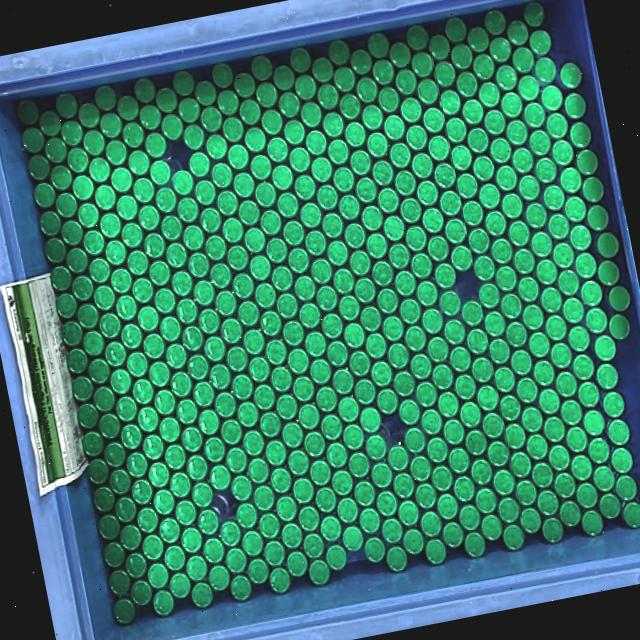vial: (104, 239, 128, 265), (200, 106, 223, 133), (72, 174, 95, 201), (66, 247, 89, 274), (137, 305, 160, 332), (126, 351, 149, 378), (398, 399, 421, 426), (582, 176, 605, 203), (348, 451, 371, 478), (599, 493, 622, 520), (109, 569, 132, 596), (191, 582, 214, 609), (420, 510, 443, 537), (510, 349, 533, 376), (143, 333, 166, 360), (442, 521, 464, 549), (94, 85, 117, 111), (428, 34, 451, 60), (33, 183, 56, 209), (128, 150, 151, 176), (271, 266, 294, 292), (170, 371, 193, 397), (478, 82, 501, 108), (489, 138, 512, 164), (512, 47, 535, 73), (467, 27, 490, 53), (523, 103, 546, 129), (181, 427, 204, 453), (220, 419, 243, 445), (208, 565, 231, 591), (596, 232, 619, 258), (560, 400, 583, 426), (541, 517, 564, 543), (39, 110, 61, 137), (51, 164, 73, 191), (61, 320, 83, 347), (154, 287, 176, 314), (278, 92, 300, 119), (243, 328, 265, 355), (311, 257, 333, 284), (260, 209, 282, 236), (93, 385, 115, 412), (82, 430, 104, 457), (142, 433, 164, 460), (378, 86, 400, 113), (417, 78, 439, 105), (456, 172, 478, 199), (389, 142, 411, 169), (560, 62, 582, 89), (439, 190, 461, 217), (338, 194, 360, 221), (434, 263, 456, 290), (203, 537, 225, 564), (321, 414, 343, 441), (332, 368, 354, 395), (360, 407, 382, 434), (186, 554, 208, 581), (147, 562, 169, 589), (473, 255, 495, 282), (443, 418, 465, 445), (471, 458, 493, 485), (114, 597, 136, 624), (464, 531, 486, 558), (475, 487, 497, 514), (571, 454, 593, 481), (578, 381, 600, 408), (593, 465, 615, 492), (198, 408, 219, 436), (426, 537, 447, 565), (529, 29, 552, 54), (219, 522, 242, 547), (585, 308, 608, 333), (562, 297, 585, 322), (608, 286, 631, 311), (411, 52, 434, 77), (17, 99, 39, 125), (117, 95, 139, 121), (350, 49, 372, 75), (22, 127, 44, 153), (295, 74, 317, 100), (372, 59, 394, 85), (45, 137, 67, 163), (205, 134, 227, 160), (94, 185, 116, 211), (144, 233, 166, 259), (122, 222, 144, 248), (39, 211, 61, 237), (61, 220, 83, 246), (127, 250, 149, 276), (149, 260, 171, 286), (132, 277, 154, 303), (176, 298, 198, 324), (277, 192, 299, 218), (267, 137, 289, 163), (284, 120, 306, 146), (232, 273, 254, 299), (372, 160, 394, 186), (300, 203, 322, 229), (137, 407, 159, 433), (104, 442, 126, 468), (159, 417, 181, 443), (148, 463, 170, 489), (131, 478, 153, 504), (367, 132, 389, 158), (401, 97, 423, 123), (395, 70, 417, 96), (434, 61, 456, 87), (529, 130, 551, 156), (473, 155, 495, 181), (534, 57, 556, 83), (355, 178, 377, 204), (317, 184, 339, 210), (266, 237, 288, 263), (546, 113, 568, 139), (570, 122, 592, 148), (512, 147, 534, 173), (495, 166, 517, 192), (428, 135, 450, 161), (434, 162, 456, 188), (361, 205, 383, 231), (354, 278, 376, 304), (377, 187, 399, 213), (485, 210, 507, 236), (360, 306, 382, 332), (226, 346, 248, 372), (187, 354, 209, 380), (137, 507, 159, 533), (159, 517, 181, 543), (175, 500, 197, 526), (186, 455, 208, 481), (270, 467, 292, 493), (259, 513, 281, 539), (254, 385, 276, 411), (298, 404, 320, 430), (304, 431, 326, 457), (326, 442, 348, 468), (215, 392, 237, 418), (288, 348, 310, 374), (305, 331, 327, 357), (310, 358, 332, 384), (293, 376, 315, 402), (316, 285, 338, 311), (344, 322, 366, 348), (415, 381, 437, 407), (377, 389, 399, 415), (371, 260, 393, 286), (491, 238, 513, 264), (462, 301, 484, 327), (518, 276, 540, 302), (508, 220, 530, 246), (531, 231, 553, 257), (541, 287, 563, 313), (550, 343, 572, 369), (421, 409, 443, 435), (556, 371, 578, 397), (460, 402, 482, 428), (504, 423, 526, 449), (404, 427, 426, 453), (488, 441, 510, 467), (465, 429, 487, 455), (393, 473, 415, 499), (325, 545, 347, 571), (359, 508, 381, 534), (337, 498, 359, 524), (376, 490, 398, 516), (354, 481, 376, 507), (493, 469, 515, 495), (104, 542, 126, 568), (142, 534, 164, 560), (130, 580, 152, 606), (153, 590, 175, 616), (170, 573, 192, 599), (382, 518, 404, 544), (398, 500, 420, 526), (410, 456, 432, 482), (549, 445, 571, 471), (583, 410, 605, 436), (588, 438, 610, 464), (581, 510, 603, 536), (264, 540, 286, 566), (29, 154, 50, 181), (69, 147, 90, 174), (55, 191, 76, 218), (162, 214, 183, 241), (200, 207, 221, 234), (322, 111, 343, 138), (172, 270, 193, 297), (110, 368, 131, 395), (99, 513, 120, 540), (474, 54, 495, 81), (518, 75, 539, 102), (349, 249, 370, 276), (237, 401, 258, 428), (181, 526, 202, 553), (265, 439, 286, 466), (394, 370, 415, 397), (410, 353, 431, 380), (416, 280, 437, 307), (588, 204, 609, 231), (545, 314, 566, 341), (513, 248, 534, 275), (466, 328, 487, 355), (438, 391, 459, 418), (293, 477, 314, 504), (343, 525, 364, 552), (125, 552, 146, 579), (386, 545, 407, 572), (481, 514, 502, 541), (554, 472, 575, 499), (545, 416, 566, 443), (566, 426, 587, 453), (537, 489, 558, 516), (498, 497, 519, 524), (609, 419, 630, 446), (109, 468, 132, 492), (247, 457, 270, 481), (541, 85, 564, 109), (538, 388, 561, 412), (594, 335, 617, 359), (56, 93, 78, 118), (78, 103, 100, 128), (134, 78, 156, 103), (89, 158, 111, 183), (50, 266, 72, 291), (77, 303, 99, 328), (83, 331, 105, 356), (301, 102, 323, 127), (183, 226, 205, 251), (227, 245, 249, 270), (116, 195, 138, 220), (339, 94, 361, 119), (328, 140, 350, 165), (99, 413, 121, 438), (120, 425, 142, 450), (126, 452, 148, 477), (115, 496, 137, 521), (439, 90, 461, 115), (366, 234, 388, 259), (552, 140, 574, 165), (422, 207, 444, 232), (406, 125, 428, 150), (299, 302, 321, 327), (260, 311, 282, 336), (120, 525, 142, 550), (276, 395, 298, 420), (468, 228, 490, 253), (444, 320, 466, 345), (522, 305, 544, 330), (560, 168, 582, 193), (564, 94, 586, 119), (365, 334, 387, 359), (516, 378, 538, 403), (499, 395, 521, 420), (477, 385, 499, 410), (448, 449, 470, 474), (364, 538, 386, 563), (596, 364, 618, 389), (403, 529, 425, 554), (454, 476, 476, 501), (576, 483, 598, 508), (239, 99, 260, 125), (162, 114, 183, 140), (228, 144, 249, 170), (189, 151, 210, 177), (172, 170, 193, 196), (179, 197, 200, 223), (79, 202, 100, 228), (100, 213, 121, 239), (134, 177, 155, 203), (45, 238, 66, 264), (88, 258, 109, 284), (72, 275, 93, 301), (105, 342, 126, 368), (239, 199, 260, 225), (251, 155, 272, 181), (262, 109, 283, 135), (318, 84, 339, 110), (222, 218, 243, 244), (166, 243, 187, 269), (210, 262, 231, 288), (205, 235, 226, 261), (188, 252, 209, 278), (122, 323, 143, 349), (166, 343, 187, 369), (183, 325, 204, 351), (204, 336, 225, 362), (288, 247, 309, 273), (345, 122, 366, 148), (159, 316, 180, 342), (72, 376, 93, 402), (115, 396, 136, 422), (148, 361, 169, 387), (177, 398, 198, 424), (77, 403, 98, 429), (88, 458, 109, 484), (93, 486, 114, 512), (362, 105, 383, 131), (356, 78, 377, 104), (384, 114, 405, 140), (496, 65, 517, 91), (395, 170, 416, 196), (284, 220, 305, 246), (577, 149, 598, 175), (479, 183, 500, 209), (462, 201, 483, 227), (383, 216, 404, 242), (305, 230, 326, 256), (327, 241, 348, 267), (423, 107, 444, 133), (400, 197, 421, 223), (339, 295, 360, 321), (239, 300, 260, 326), (192, 481, 213, 507), (237, 502, 258, 528), (226, 448, 247, 474), (210, 464, 231, 490), (231, 475, 252, 501), (242, 530, 263, 556), (281, 523, 302, 549), (299, 505, 320, 531), (260, 411, 281, 437), (282, 423, 303, 449), (249, 356, 270, 382), (193, 381, 214, 407), (271, 366, 292, 392), (266, 339, 287, 365), (283, 321, 304, 347), (355, 379, 376, 405), (343, 424, 364, 450), (388, 343, 409, 369), (405, 326, 426, 352), (231, 575, 252, 601), (411, 253, 432, 279), (389, 243, 410, 269), (451, 245, 472, 271), (395, 270, 416, 296), (506, 322, 527, 348), (496, 266, 517, 292), (525, 202, 546, 228), (543, 185, 564, 211), (485, 109, 506, 135), (457, 71, 478, 97), (609, 314, 630, 340), (530, 332, 551, 358), (489, 339, 510, 365), (472, 357, 493, 383), (494, 366, 515, 392), (483, 412, 504, 438), (427, 437, 448, 463), (389, 445, 410, 471), (432, 466, 453, 492), (332, 470, 353, 496), (310, 459, 331, 485), (321, 515, 342, 541), (303, 533, 324, 559), (532, 463, 553, 489), (509, 452, 530, 478), (573, 354, 594, 380), (270, 567, 291, 593), (287, 551, 308, 577), (309, 560, 330, 586), (416, 483, 437, 509), (382, 316, 403, 342), (526, 434, 547, 460), (604, 392, 625, 418), (616, 475, 637, 501), (322, 212, 343, 238), (247, 558, 268, 584), (199, 308, 220, 334), (152, 159, 172, 186), (217, 189, 237, 216), (85, 229, 105, 256), (118, 294, 138, 321), (96, 284, 116, 311), (246, 226, 266, 253), (134, 378, 154, 405), (414, 152, 434, 179), (537, 157, 557, 184), (407, 225, 427, 252), (447, 217, 467, 244), (424, 307, 444, 334), (278, 495, 298, 522), (437, 493, 457, 520), (517, 479, 537, 506), (165, 544, 184, 572), (253, 487, 276, 510), (559, 502, 582, 525), (484, 11, 506, 35), (156, 89, 178, 113), (217, 91, 239, 115), (451, 46, 473, 70), (106, 141, 128, 165), (111, 168, 133, 192), (110, 269, 132, 293), (55, 294, 77, 318), (305, 131, 327, 155), (294, 176, 316, 200), (249, 256, 271, 280), (215, 291, 237, 315), (350, 151, 372, 175), (333, 168, 355, 192), (462, 99, 484, 123), (490, 38, 512, 62), (377, 289, 399, 313), (427, 336, 449, 360), (519, 175, 541, 199), (548, 213, 570, 237), (570, 224, 592, 248), (568, 327, 590, 351), (611, 447, 633, 471), (179, 98, 200, 123), (146, 133, 167, 158), (222, 117, 243, 142), (211, 163, 232, 188), (139, 205, 160, 230), (89, 359, 110, 384), (311, 157, 332, 182), (256, 182, 277, 207), (390, 42, 411, 67), (255, 283, 276, 308), (417, 180, 438, 205), (440, 291, 461, 316), (322, 314, 343, 339), (210, 364, 231, 389), (154, 490, 175, 515), (243, 431, 264, 456), (243, 431, 264, 456), (232, 375, 253, 400), (428, 236, 449, 261), (479, 283, 500, 308), (468, 127, 489, 152), (575, 253, 596, 278), (536, 260, 557, 285), (558, 270, 579, 295), (581, 281, 602, 306), (455, 374, 476, 399), (371, 462, 392, 487), (533, 360, 554, 385), (170, 472, 191, 497), (316, 387, 337, 412), (520, 508, 541, 533), (236, 72, 256, 98), (67, 348, 87, 374), (235, 172, 255, 198), (289, 147, 309, 173), (100, 312, 120, 338), (295, 275, 315, 301), (334, 268, 354, 294), (154, 390, 174, 416), (125, 122, 145, 148), (451, 145, 471, 171), (277, 293, 297, 319), (222, 318, 242, 344), (199, 509, 219, 535), (165, 444, 185, 470), (205, 437, 225, 463), (317, 487, 337, 513), (339, 396, 359, 422), (327, 341, 347, 367), (432, 364, 452, 390), (501, 293, 521, 319), (555, 242, 575, 268), (565, 196, 585, 222), (522, 406, 542, 432), (227, 547, 246, 574), (503, 192, 522, 219), (460, 504, 479, 531), (173, 72, 195, 95), (256, 82, 278, 105), (183, 126, 205, 149), (366, 435, 388, 458), (597, 262, 620, 284), (251, 56, 272, 80), (291, 49, 312, 73), (84, 131, 105, 155), (245, 128, 266, 152), (446, 119, 467, 143), (508, 20, 529, 44), (214, 63, 234, 88), (407, 25, 427, 50), (197, 80, 217, 105), (196, 180, 216, 205), (195, 281, 215, 306), (156, 187, 176, 212), (502, 92, 522, 117), (507, 119, 527, 144), (345, 223, 365, 248), (400, 299, 420, 324), (485, 311, 505, 336), (372, 361, 392, 386), (450, 347, 470, 372), (370, 32, 389, 58), (101, 114, 122, 137), (502, 527, 525, 548), (274, 66, 294, 90), (336, 66, 356, 90), (63, 120, 82, 145), (273, 165, 292, 190), (289, 450, 308, 475), (622, 502, 640, 528), (312, 58, 333, 80), (349, 353, 371, 374), (447, 20, 467, 43), (526, 1, 545, 25), (142, 107, 161, 130), (331, 43, 350, 65)
